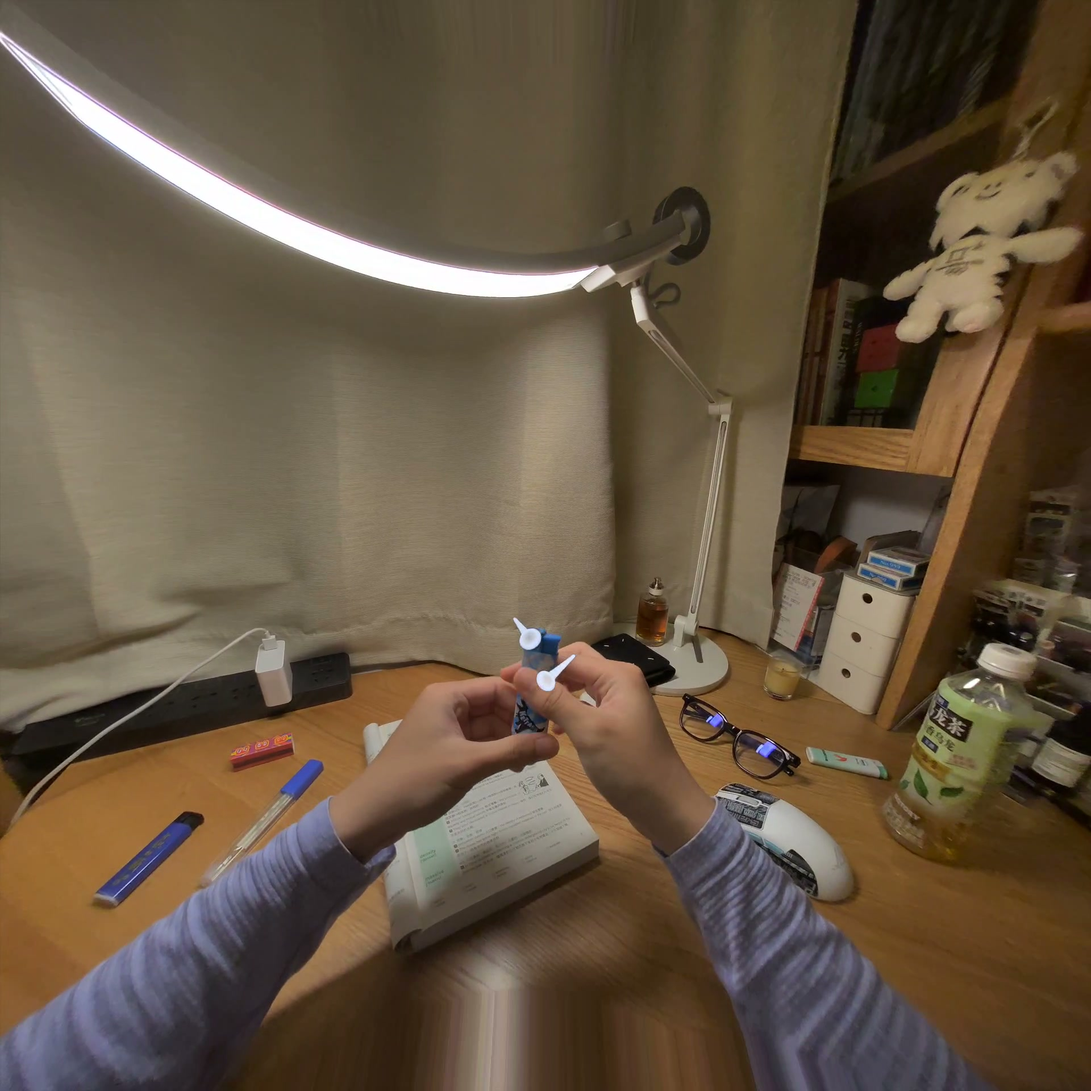lighter: (520, 628, 561, 672)
